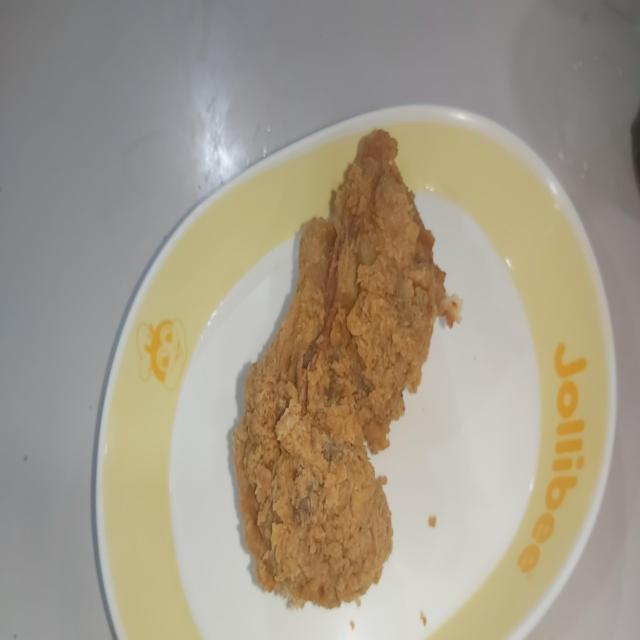Chicken -Fried Chicken-: (239, 95, 468, 640)
